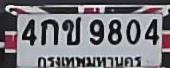0: (125, 18, 140, 44)
4: (21, 18, 35, 45), (144, 18, 158, 44)
8: (107, 18, 121, 44)
9: (89, 18, 103, 44)
A01: (40, 18, 58, 45)
A10: (62, 16, 80, 45)
BKK: (35, 52, 143, 68)
